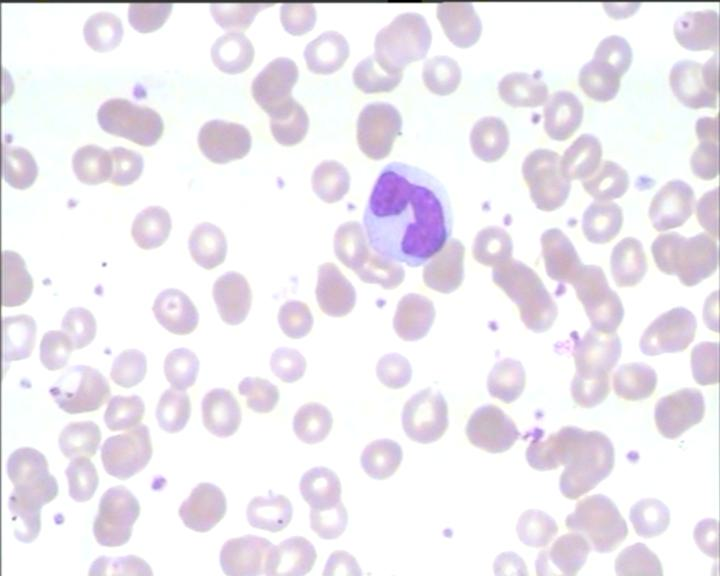mono: (359, 157, 456, 268)
